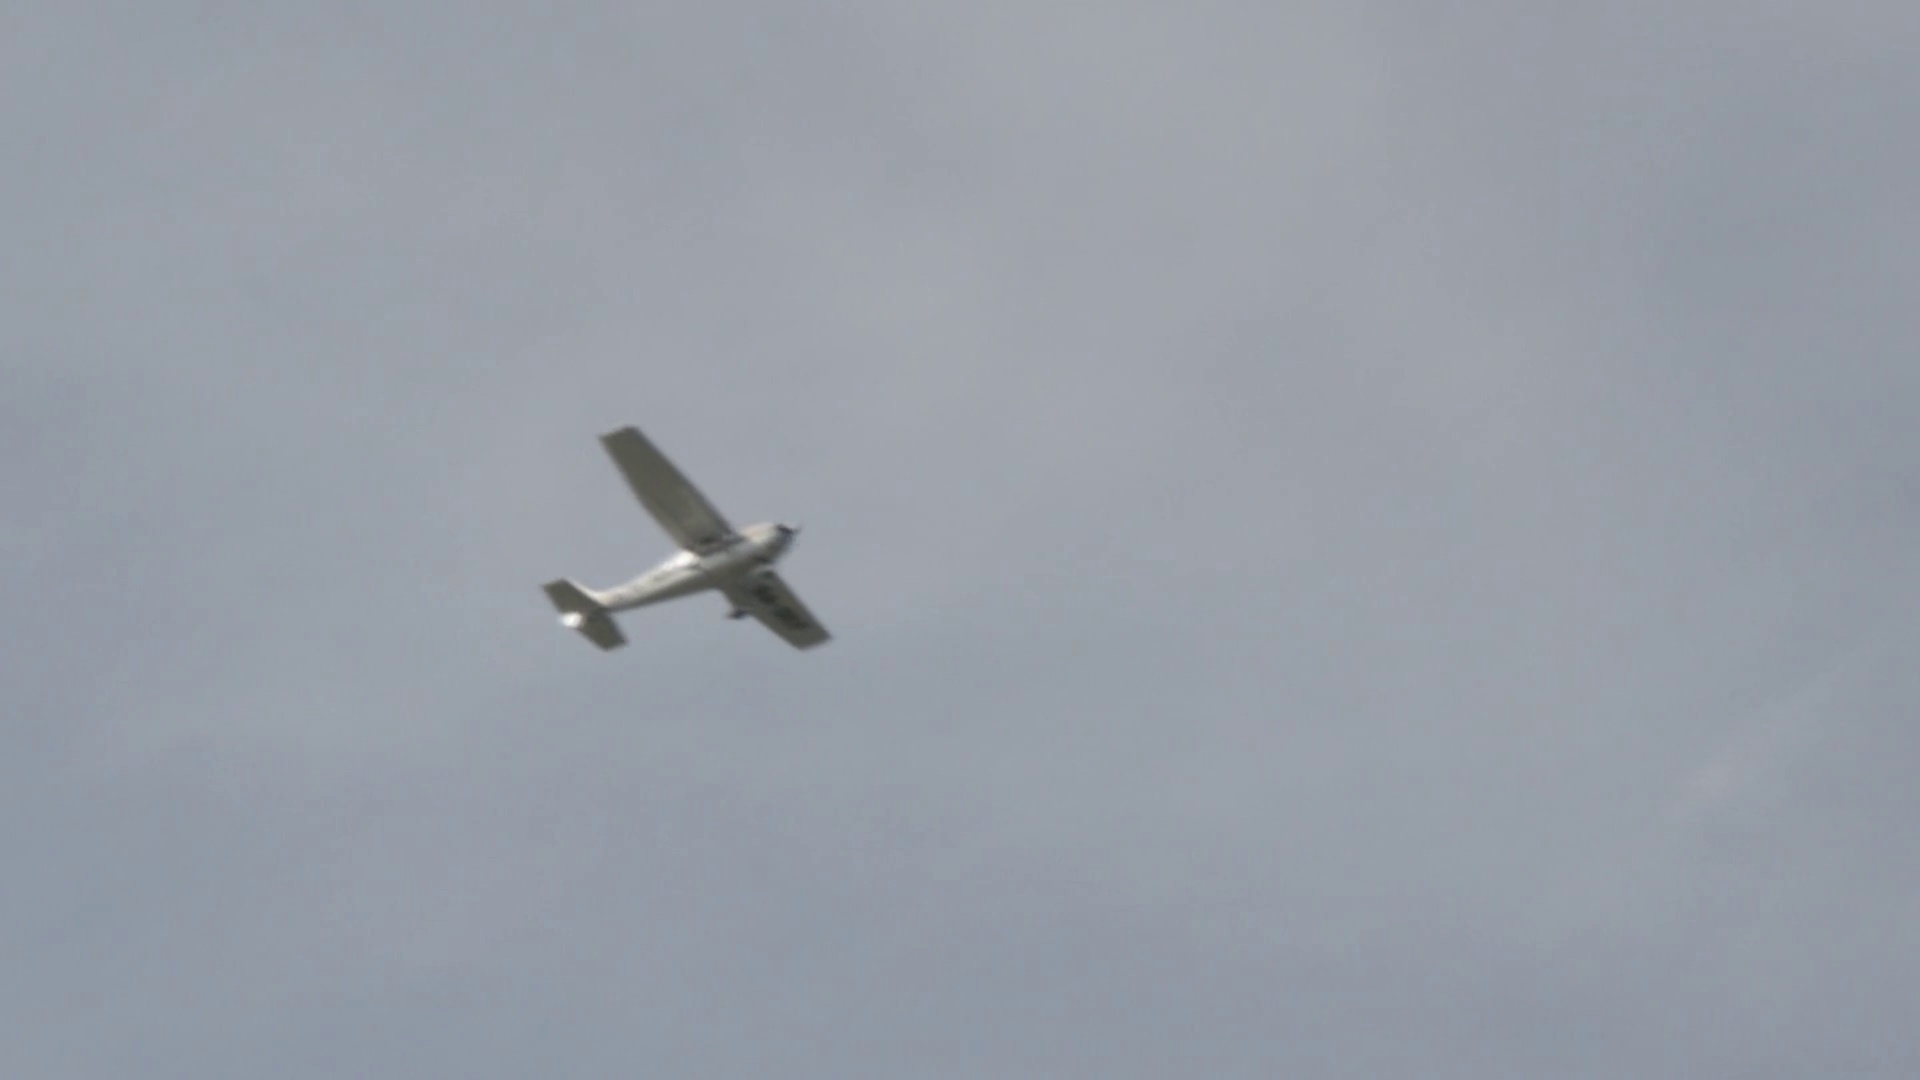plane: (539, 421, 833, 655)
